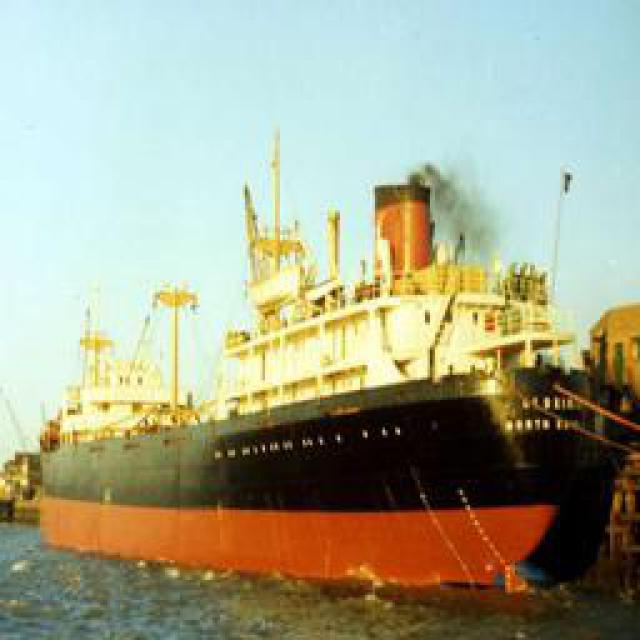Ship: (32, 152, 610, 590)
